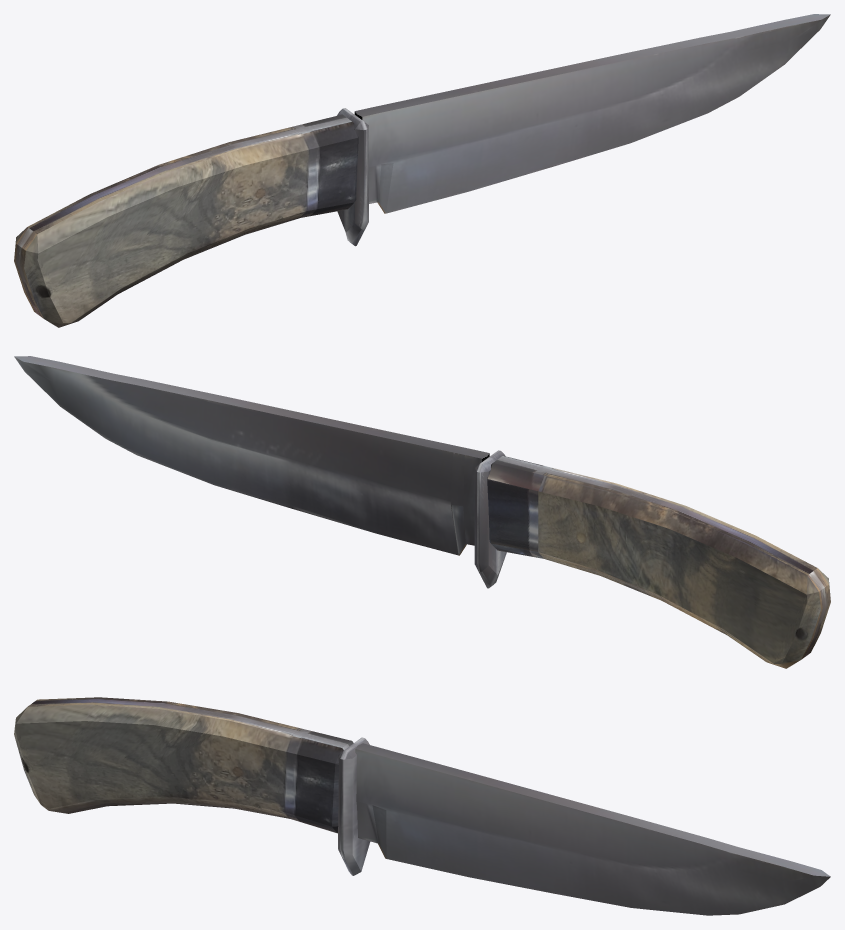
The model's file is knife.glb.
3 renders of one model, top to bottom at view 1: azimuth 30°, elevation 25°; view 2: azimuth 150°, elevation 25°; view 3: azimuth 330°, elevation 25°, orthographic.
Visible parts, largest first — view 1: knife_final; view 2: knife_final; view 3: knife_final.
Boxes of the visible parts, box(x1,y1,x2,y2) form: knife_final: box(14, 14, 830, 327); knife_final: box(14, 356, 830, 668); knife_final: box(14, 697, 830, 915).
Size of the model in its own units: 0.783 by 0.1248 by 0.0413.
Materials: 3 (3 with a texture image).
